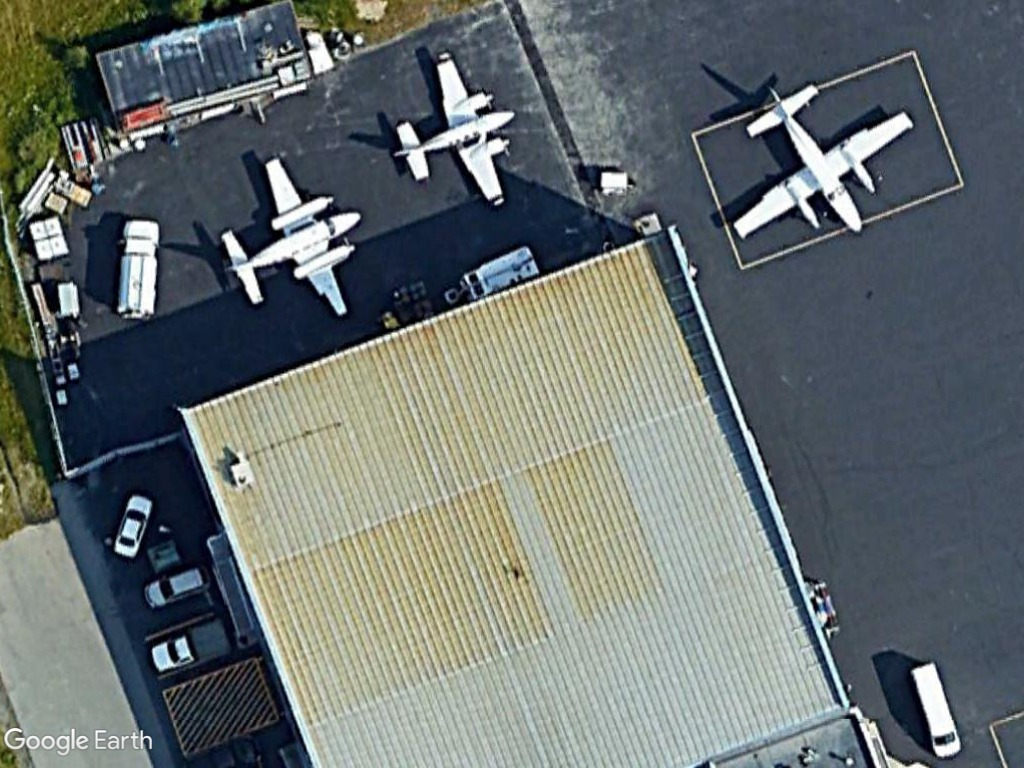car: (107, 488, 158, 562), (139, 561, 210, 612)
propeller: (729, 73, 917, 245), (221, 157, 364, 326), (384, 46, 518, 212)
van: (905, 651, 965, 761)
